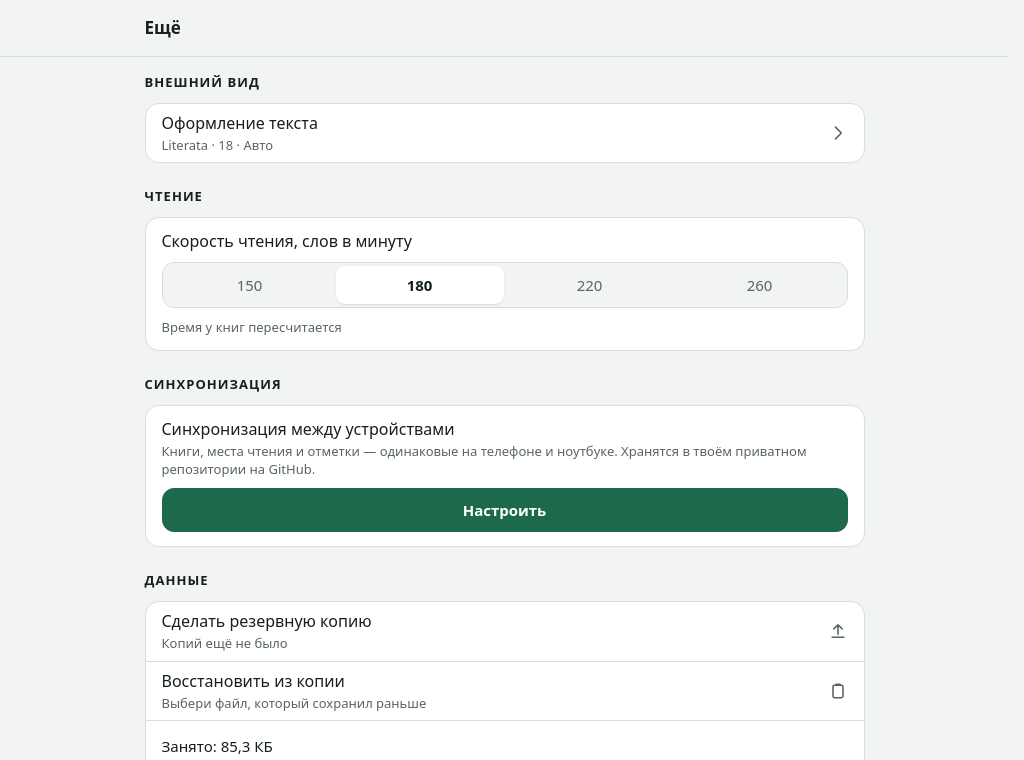
Test: «Ещё»: резервная копия › сбой при создании копии — тост, дата копии не меняется
The width and height of the screenshot is (1024, 760).
Click the button with class "srow" that starts with "Сделать резервную копию".
click(267, 621)  # box [146,602,864,660]
(page scrolled)
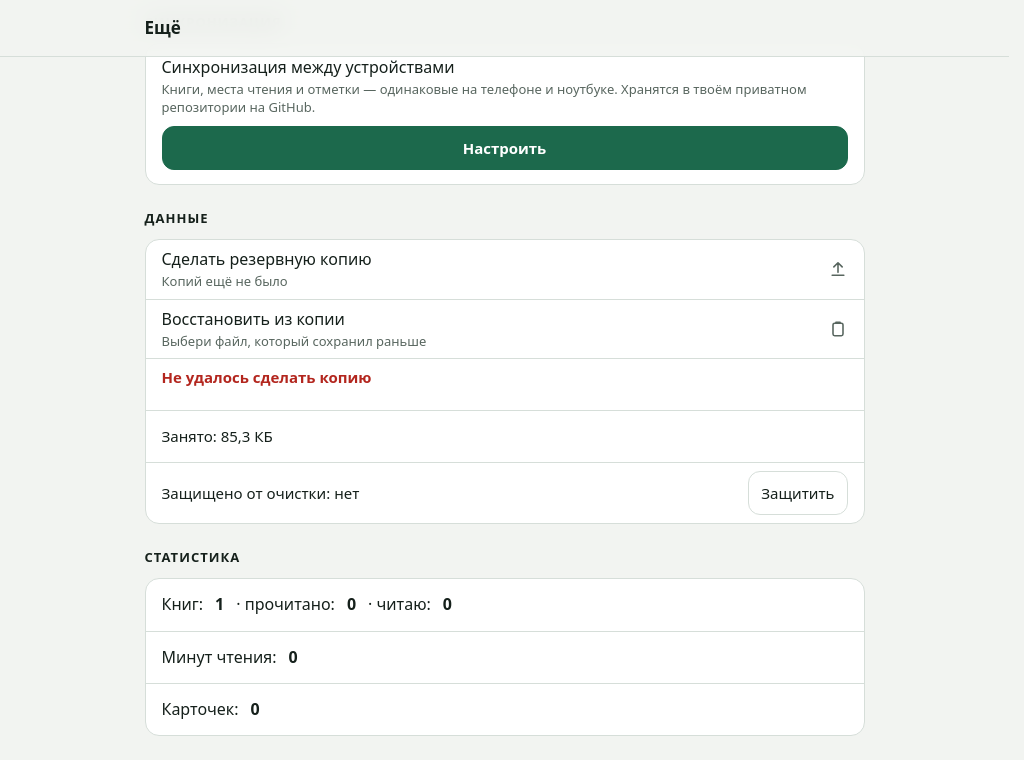
Now the message "Не удалось сделать копию" is shown, box [146,358,864,410]
